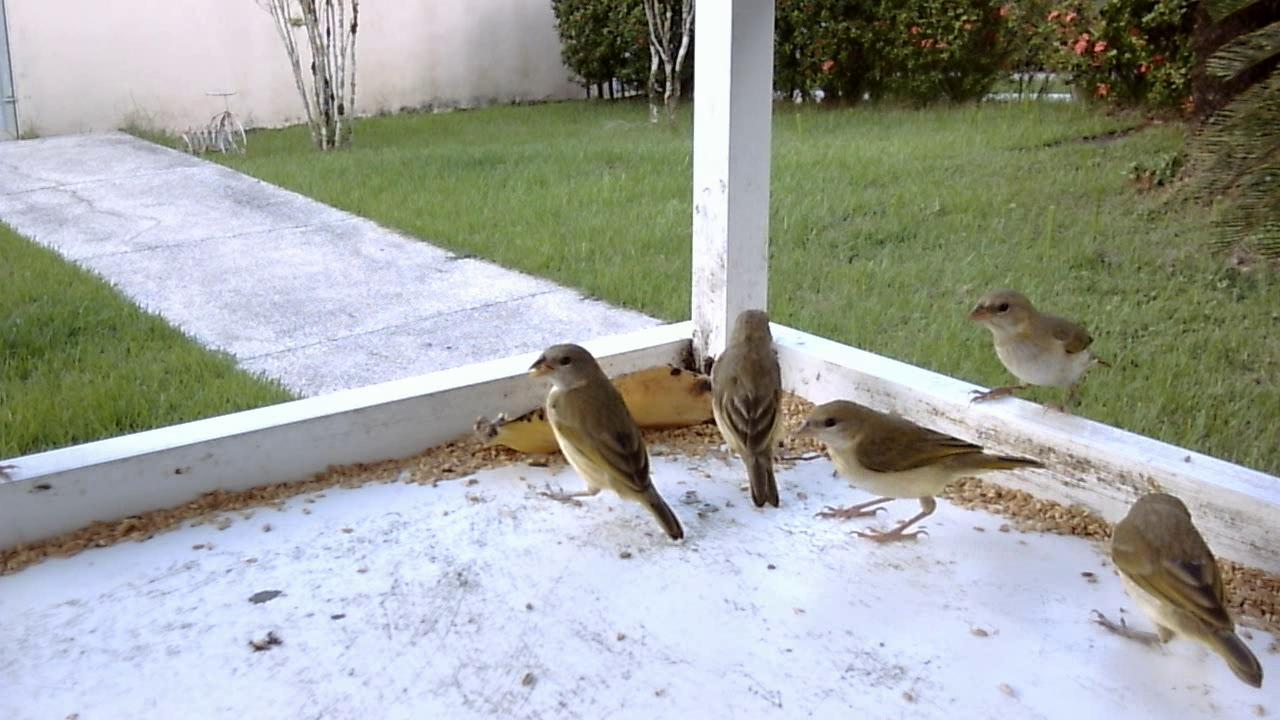canario_do_amazonas: (794, 397, 1045, 548), (1084, 486, 1268, 683), (523, 340, 690, 546), (960, 286, 1108, 419), (703, 305, 792, 515)
